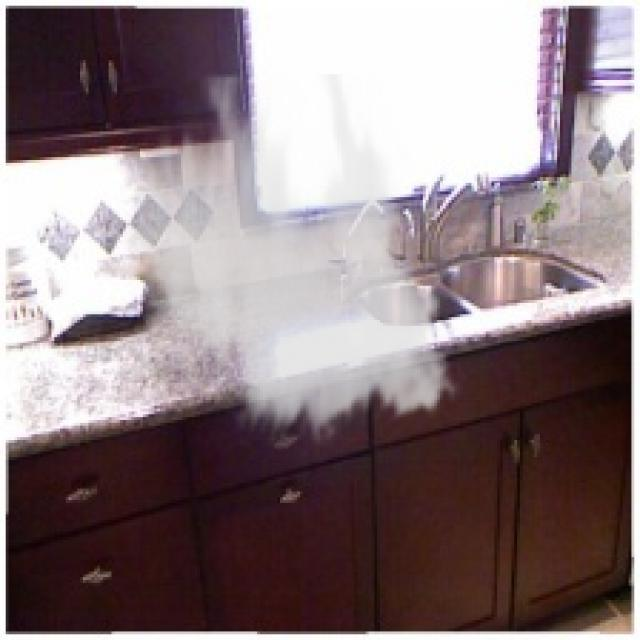Smoke: (114, 74, 466, 446)
